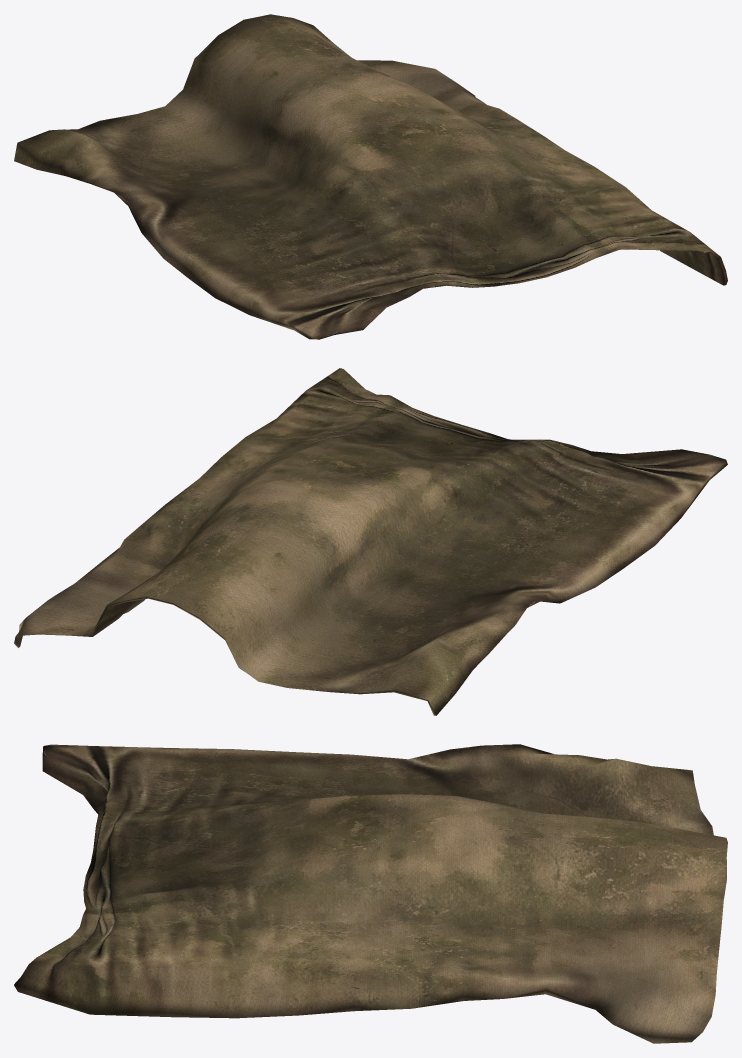
Rendered from bedsheet_old_corpse_short.dae.
The picture shows the model from 3 angles, top to bottom: view 1: azimuth 30°, elevation 25°; view 2: azimuth 150°, elevation 25°; view 3: azimuth 270°, elevation 25°; orthographic projection. The views are drawn at different scales.
Visible parts, largest first — view 1: polySurface2; view 2: polySurface2; view 3: polySurface2.
Boxes of the visible parts, <box> form: polySurface2: <box>14,14,727,339</box>; polySurface2: <box>14,368,727,715</box>; polySurface2: <box>14,744,727,1043</box>.
Bounding box in the file's own units: 1.57 × 0.4084 × 2.01.
